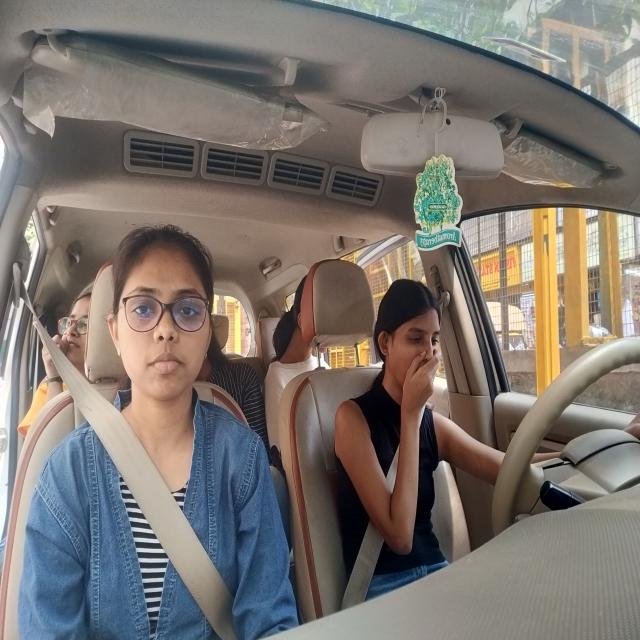drowsy: (376, 277, 442, 400)
person: (108, 226, 217, 406), (53, 284, 91, 380), (284, 277, 318, 382)
